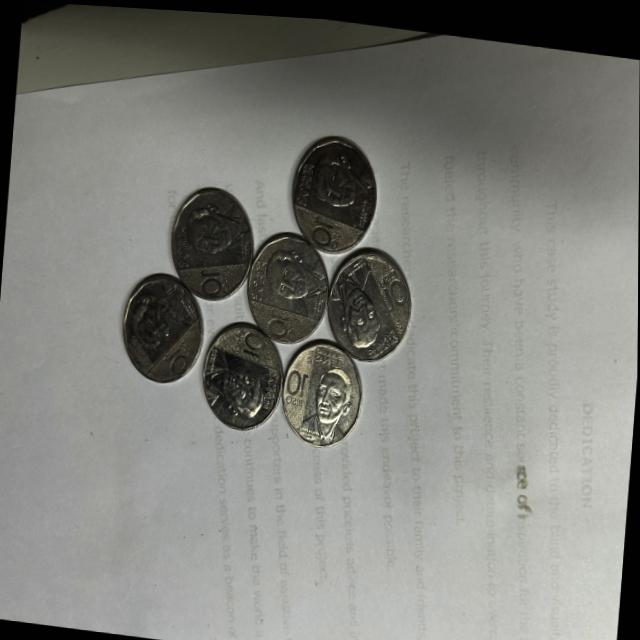10_New_Front: (373, 265, 409, 319), (192, 257, 236, 294), (306, 211, 345, 249), (163, 331, 194, 377), (264, 310, 300, 349), (285, 360, 310, 407), (235, 323, 266, 359)
